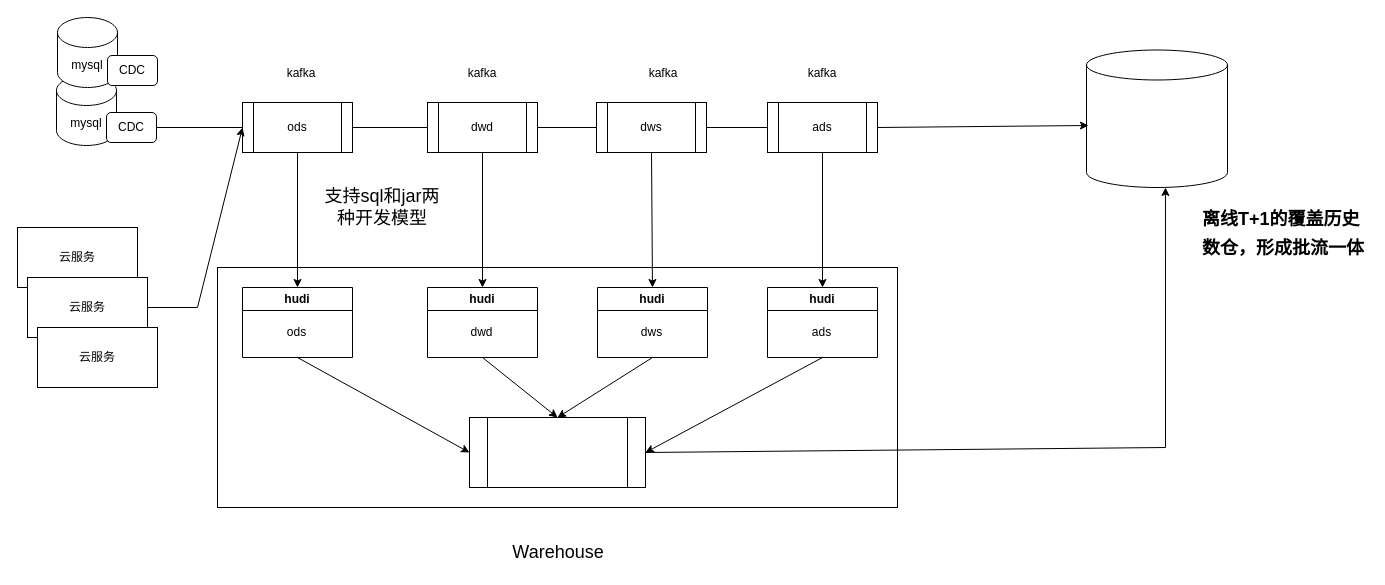
The diagram is 1385 pixels wide and 585 high, and some of its shapes have lost their labels. Each missing label, with the box of its shape:
doris: (1086, 49, 1228, 188)
T+1 离线数仓: (468, 416, 646, 488)
